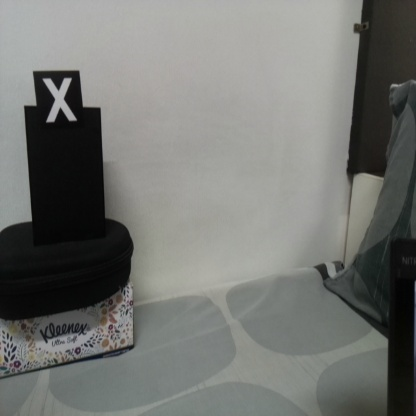id_13: (33, 70, 84, 134)
